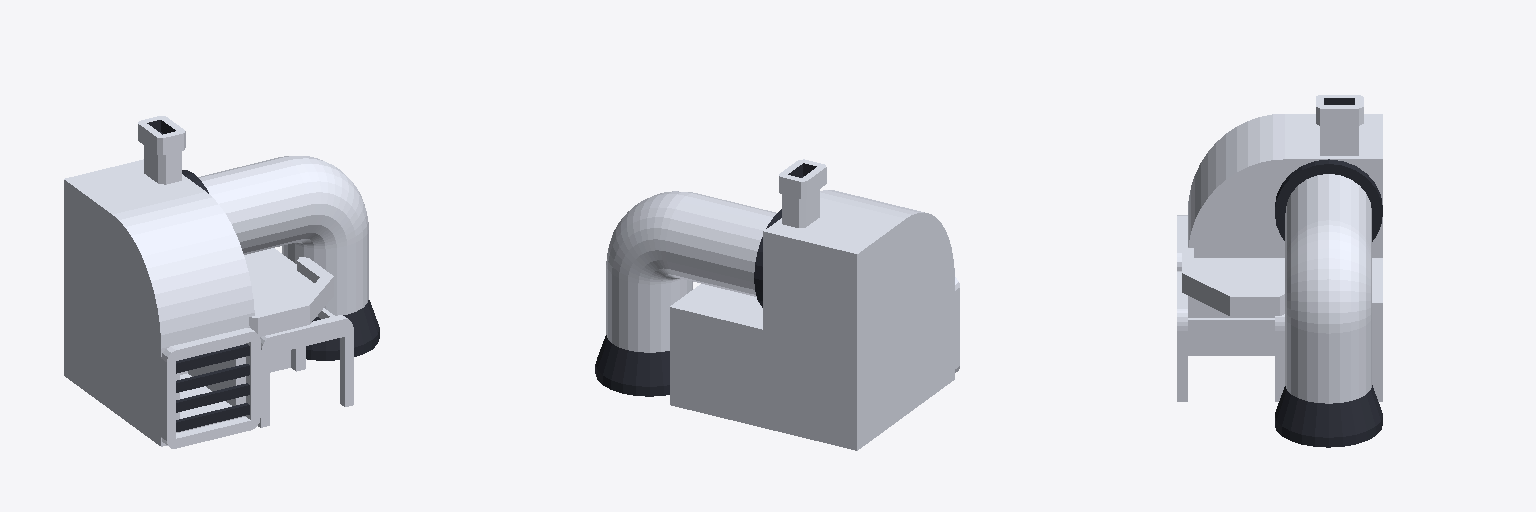
File: Assembler.obj
3 renders of one model, left to right at view 1: azimuth 30°, elevation 25°; view 2: azimuth 150°, elevation 25°; view 3: azimuth 270°, elevation 25°, orthographic.
Parts seen in each view (by area): view 1: mergedBlocks; view 2: mergedBlocks; view 3: mergedBlocks.
Part boxes in pixels (x1,y1,x2,y2): mergedBlocks: (64, 116, 379, 448); mergedBlocks: (595, 159, 959, 450); mergedBlocks: (1177, 95, 1382, 447).
Size of the model in its own units: 3 by 2.5 by 1.9.